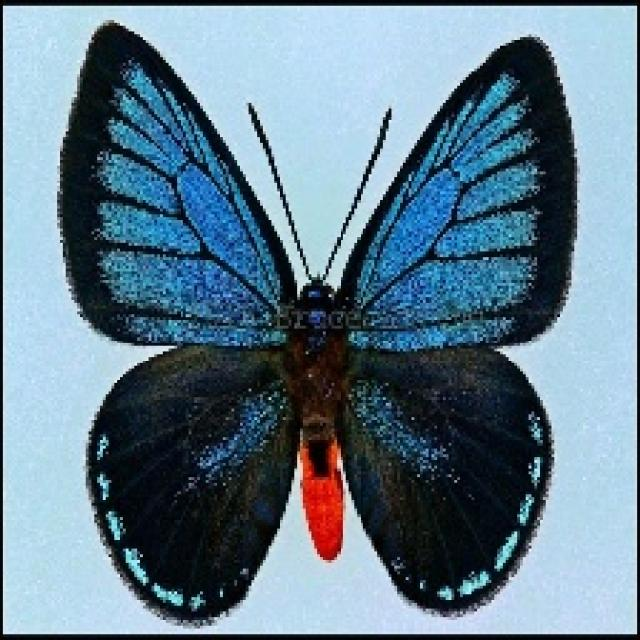butterfly: (54, 17, 580, 626)
